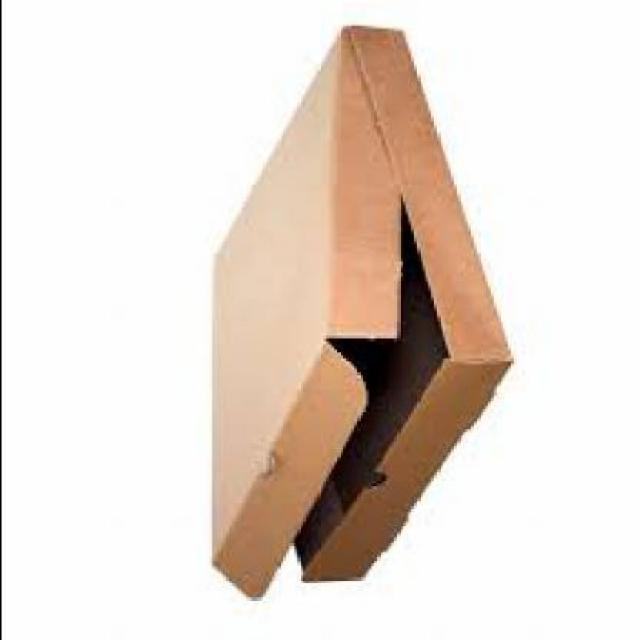box: (195, 14, 517, 612)
